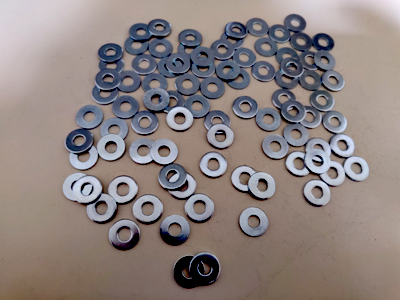circle: (109, 219, 141, 251), (190, 253, 222, 284), (160, 215, 191, 246), (174, 256, 204, 288), (133, 194, 164, 224), (240, 207, 270, 238), (97, 134, 130, 162), (110, 175, 140, 204), (87, 194, 117, 223), (73, 176, 103, 205), (186, 193, 215, 223), (63, 174, 93, 202), (130, 110, 161, 137), (129, 138, 158, 166), (69, 143, 99, 170), (64, 128, 95, 154), (169, 171, 197, 199), (114, 68, 143, 95), (248, 172, 275, 200), (200, 152, 228, 179), (151, 139, 179, 166), (75, 105, 105, 130), (111, 95, 141, 120), (167, 106, 194, 133), (303, 180, 331, 206), (232, 166, 259, 192), (319, 161, 346, 187), (344, 156, 370, 183), (159, 165, 187, 190), (307, 138, 335, 163), (101, 117, 129, 142), (305, 149, 332, 174), (200, 76, 227, 101), (208, 125, 236, 149), (283, 123, 311, 147), (143, 88, 171, 112), (175, 73, 203, 97), (204, 110, 232, 134), (94, 69, 123, 92), (330, 134, 356, 159), (281, 100, 307, 125), (262, 135, 289, 159), (184, 94, 211, 118), (92, 81, 120, 104), (159, 90, 186, 113), (131, 54, 159, 76), (256, 109, 281, 133), (286, 152, 311, 176), (299, 67, 323, 92), (233, 96, 259, 119), (274, 67, 300, 90), (323, 111, 347, 135), (210, 39, 236, 61), (97, 42, 124, 63), (123, 35, 150, 56), (272, 89, 297, 111), (310, 90, 336, 111), (128, 21, 154, 42), (142, 73, 169, 93), (322, 70, 345, 93), (298, 106, 322, 128), (267, 23, 291, 45), (191, 46, 215, 68), (148, 38, 173, 59), (280, 57, 305, 78), (166, 53, 191, 74), (227, 68, 252, 89), (232, 47, 257, 68), (215, 60, 241, 80), (313, 32, 336, 54), (252, 61, 276, 82), (275, 47, 301, 66), (299, 50, 322, 71), (314, 51, 337, 71), (255, 37, 278, 57), (148, 18, 172, 37), (284, 14, 308, 33), (179, 28, 203, 47), (290, 32, 313, 51), (246, 18, 270, 36), (225, 22, 249, 39)
